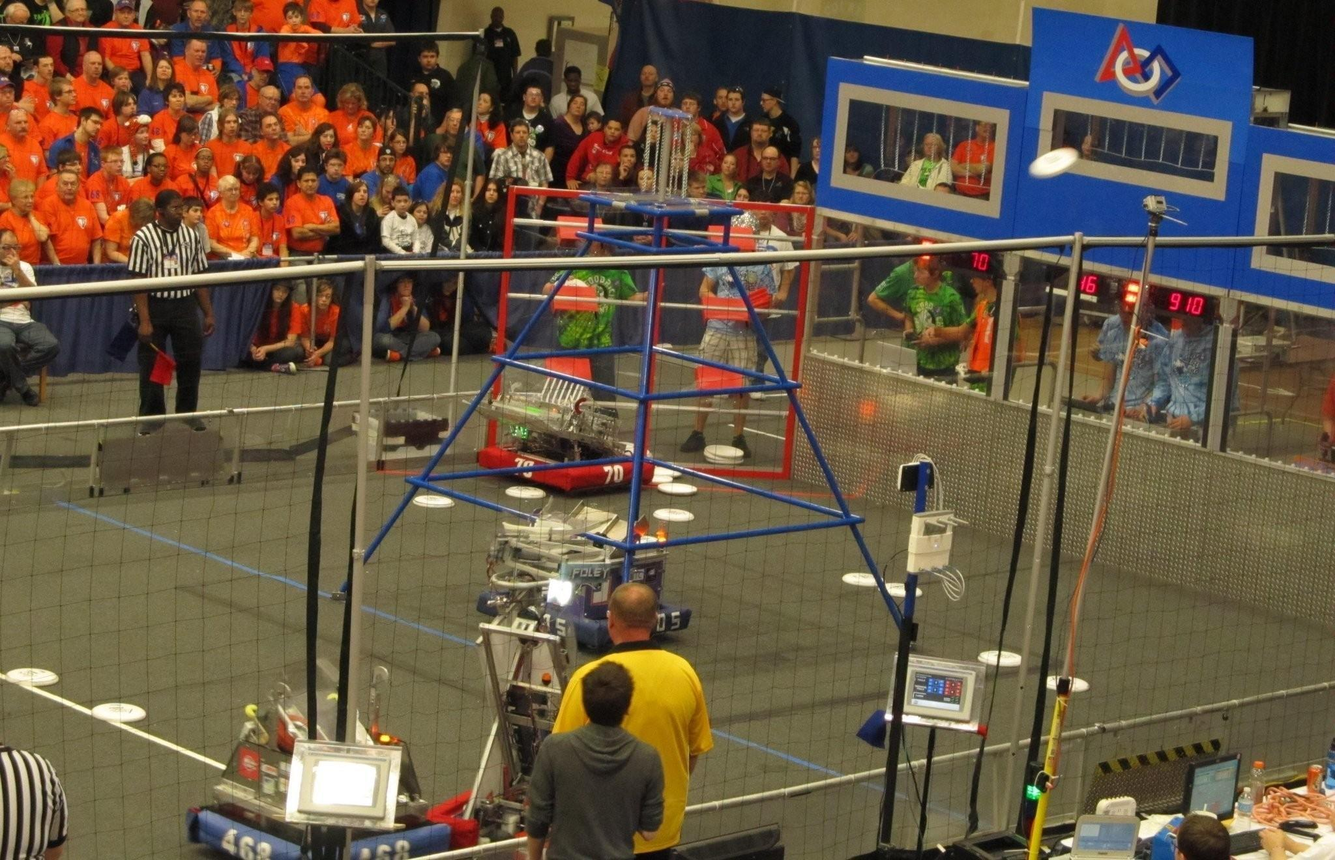robot: (435, 576, 675, 860), (180, 646, 451, 860), (467, 500, 697, 653), (468, 364, 661, 502)
